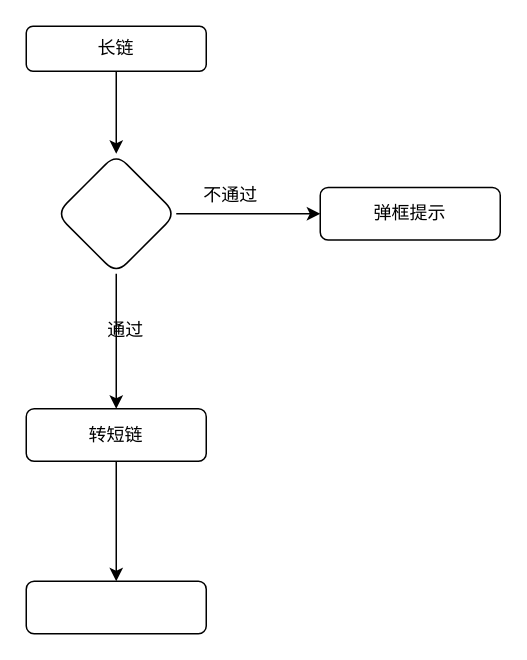
Some shapes in this 527 by 660 pixel diagram are drawn without their labels. The box of each missing label's shape, as (x1, y1, x2, y2) in pixels:
校验长链: (55, 152, 176, 274)
结束: (25, 580, 206, 634)
